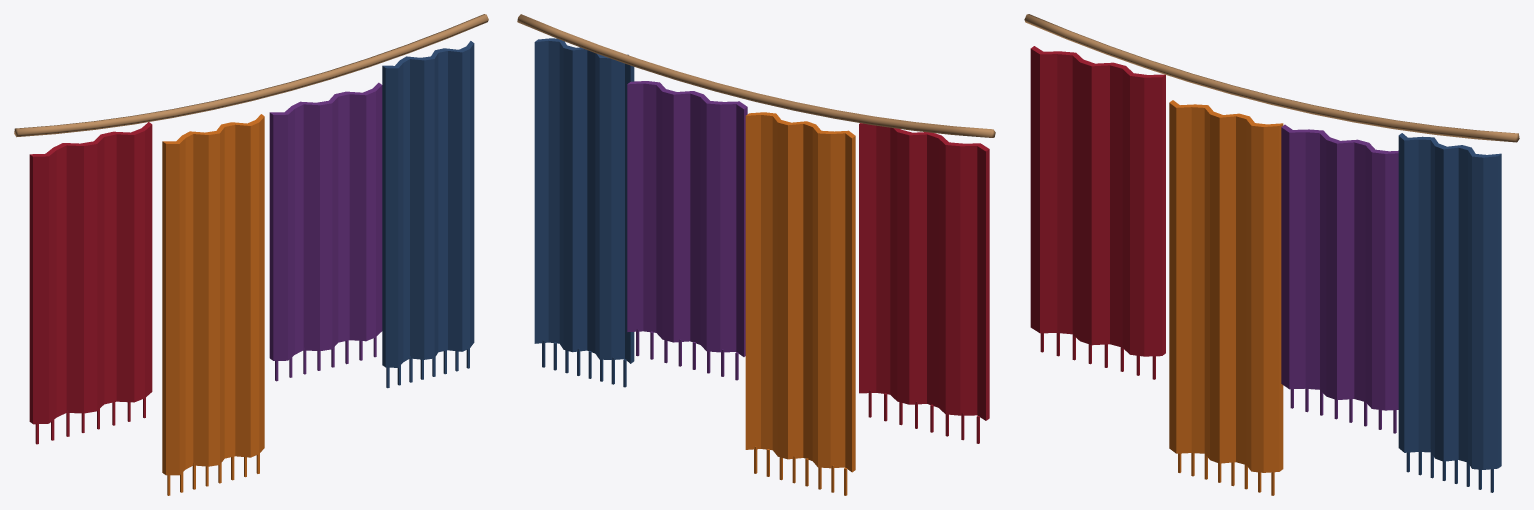
The model's file is shawl_line.glb.
3 renders of one model, left to right at view 1: azimuth 30°, elevation 25°; view 2: azimuth 150°, elevation 25°; view 3: azimuth 330°, elevation 25°, orthographic. The views are drawn at different scales.
Parts seen in each view (by area): view 1: shawl_line; view 2: shawl_line; view 3: shawl_line.
Part boxes in pixels (left/top/right/bottom): shawl_line: left=14, top=14, right=488, bottom=495; shawl_line: left=517, top=14, right=995, bottom=495; shawl_line: left=1024, top=14, right=1519, bottom=495.
Bounding box in the file's own units: 0.9224 × 0.7501 × 0.0404.
